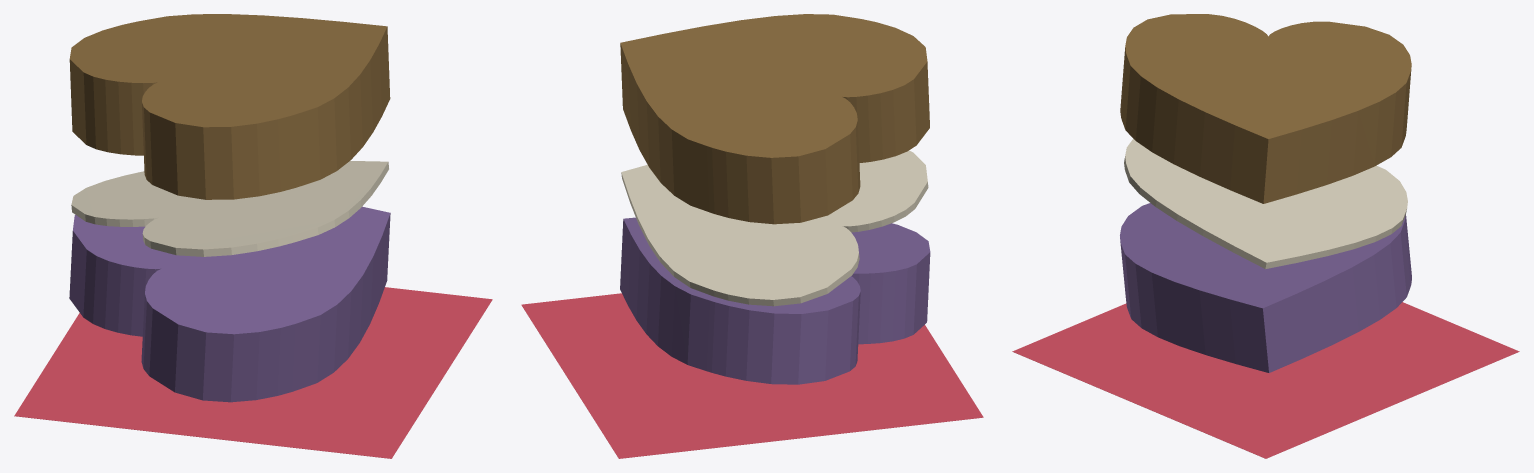
Rendered from UVC.glb.
The picture shows the model from 3 angles, left to right: view 1: azimuth 30°, elevation 25°; view 2: azimuth 150°, elevation 25°; view 3: azimuth 270°, elevation 25°; orthographic projection. The views are drawn at different scales.
Visible parts, largest first — view 1: Mesh_Mesh_head_geo.001_lambert2SG.001; view 2: Mesh_Mesh_head_geo.001_lambert2SG.001; view 3: Mesh_Mesh_head_geo.001_lambert2SG.001.
Boxes of the visible parts, left/top/right/bottom form: Mesh_Mesh_head_geo.001_lambert2SG.001: left=14, top=14, right=492, bottom=458; Mesh_Mesh_head_geo.001_lambert2SG.001: left=521, top=14, right=983, bottom=458; Mesh_Mesh_head_geo.001_lambert2SG.001: left=1012, top=14, right=1519, bottom=458.
Size of the model in its own units: 0.0354 by 0.0217 by 0.0354.
